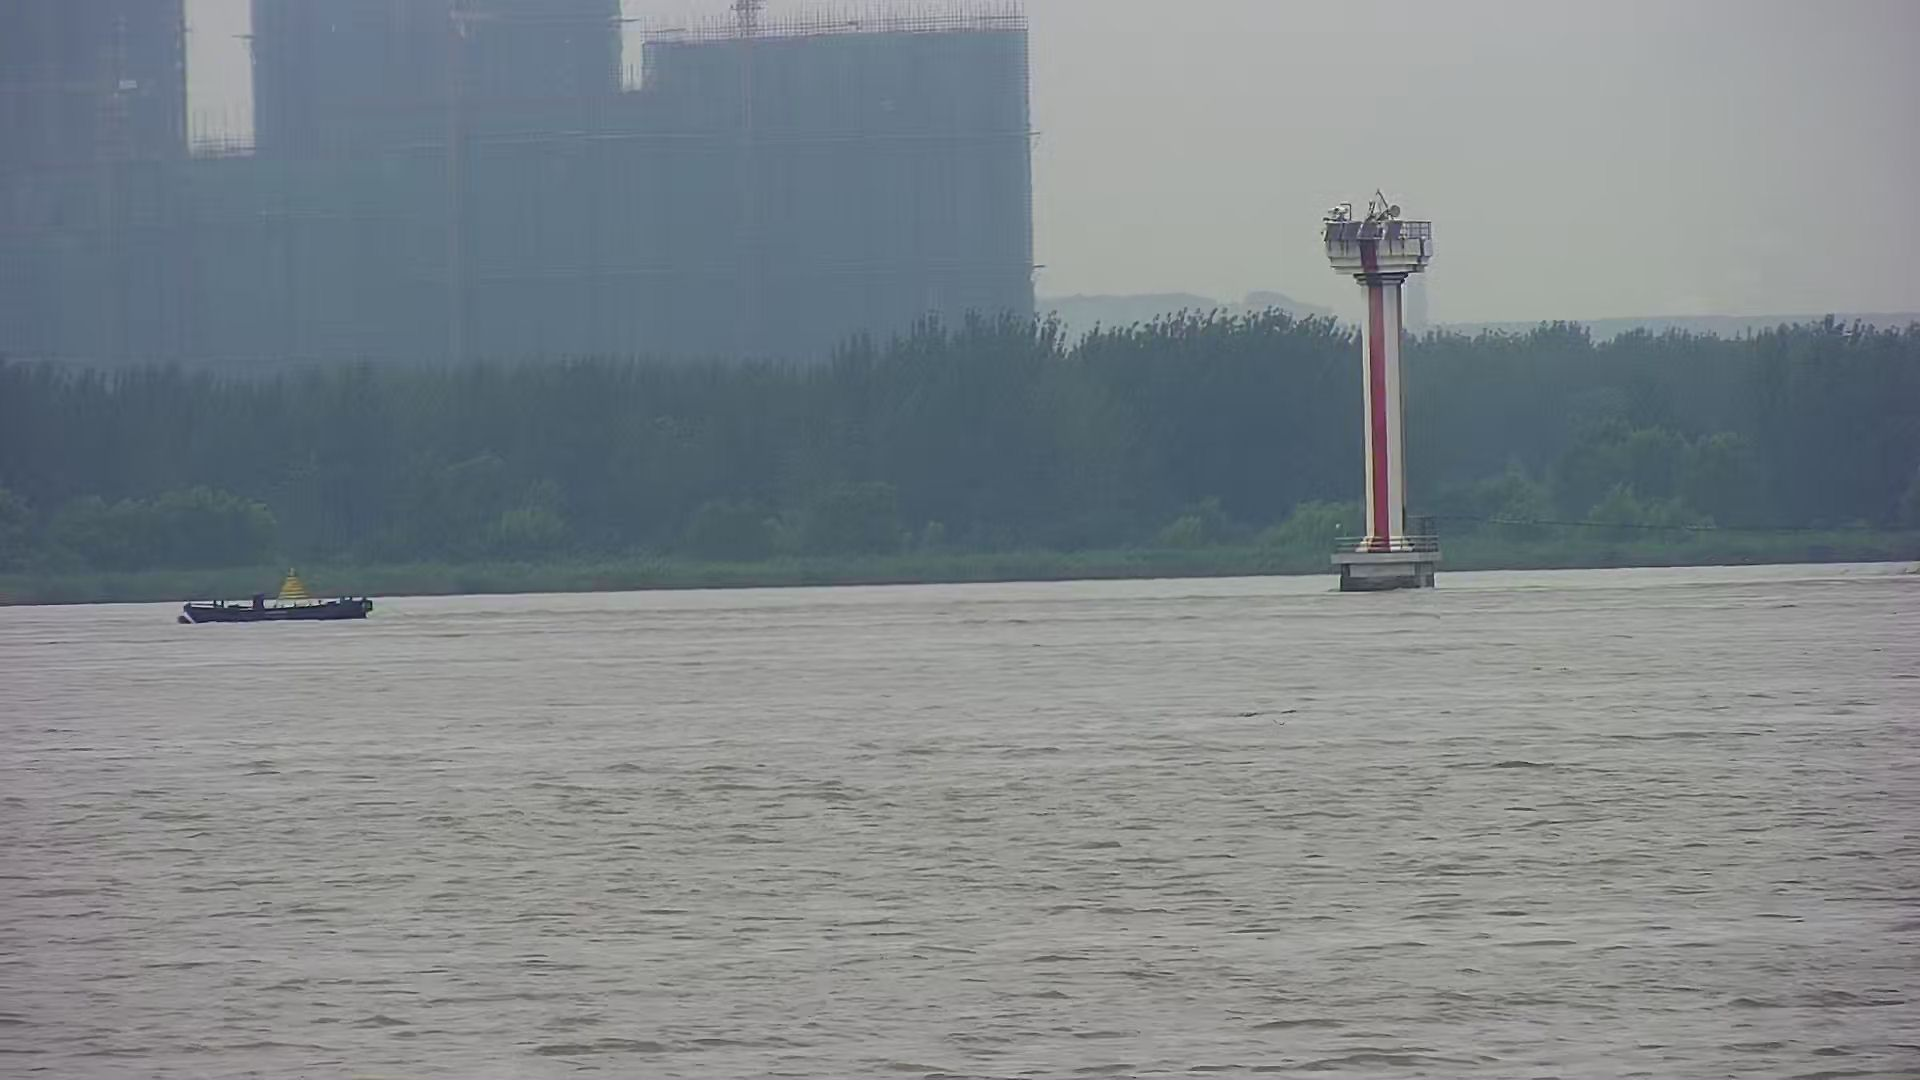boat: (179, 568, 372, 618)
platform: (1317, 204, 1448, 591)
